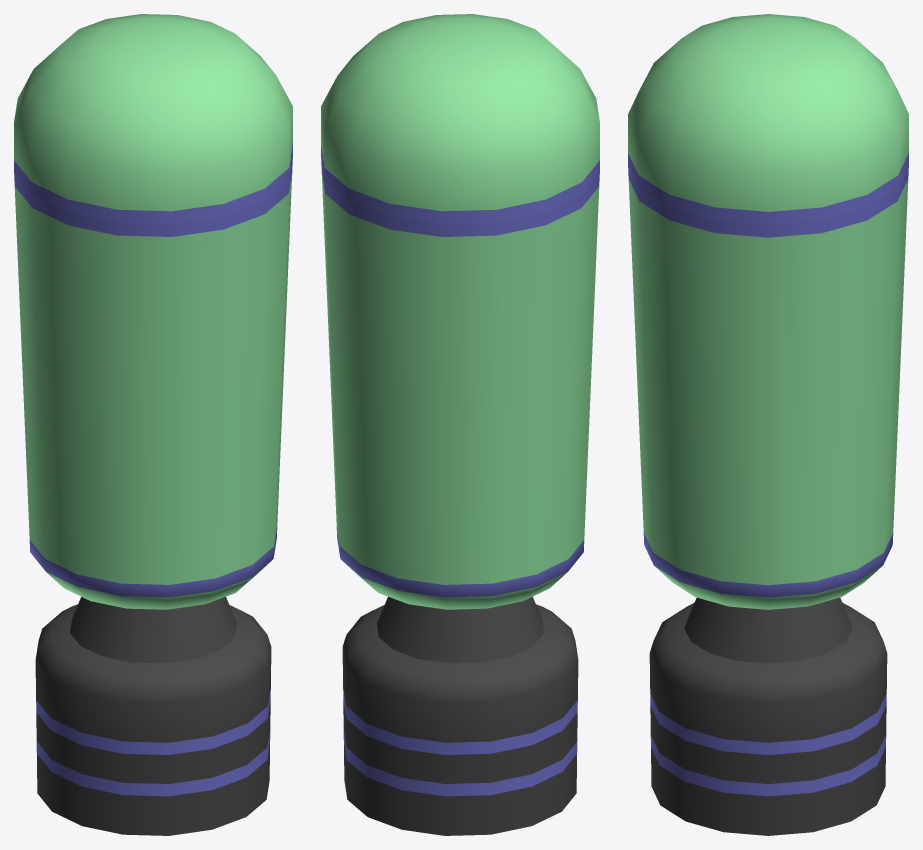
Rendered from deneme2.fbx.
3 views of the same model, side by side, from view 1: azimuth 30°, elevation 25°; view 2: azimuth 150°, elevation 25°; view 3: azimuth 270°, elevation 25° (orthographic).
Parts seen in each view (by area): view 1: Body_2.001, Motor_2.001, Head_2.001; view 2: Body_2.001, Motor_2.001, Head_2.001; view 3: Body_2.001, Motor_2.001, Head_2.001.
Part boxes in pixels (box(x1,y1,x2,y2)): Body_2.001: box(14, 160, 292, 609); Motor_2.001: box(35, 596, 271, 835); Head_2.001: box(14, 14, 292, 223); Body_2.001: box(321, 160, 599, 609); Motor_2.001: box(342, 596, 578, 835); Head_2.001: box(321, 14, 599, 223); Body_2.001: box(628, 165, 908, 609); Motor_2.001: box(649, 597, 887, 835); Head_2.001: box(628, 14, 908, 224).
Size of the model in its own units: 2 by 5.89 by 2.
